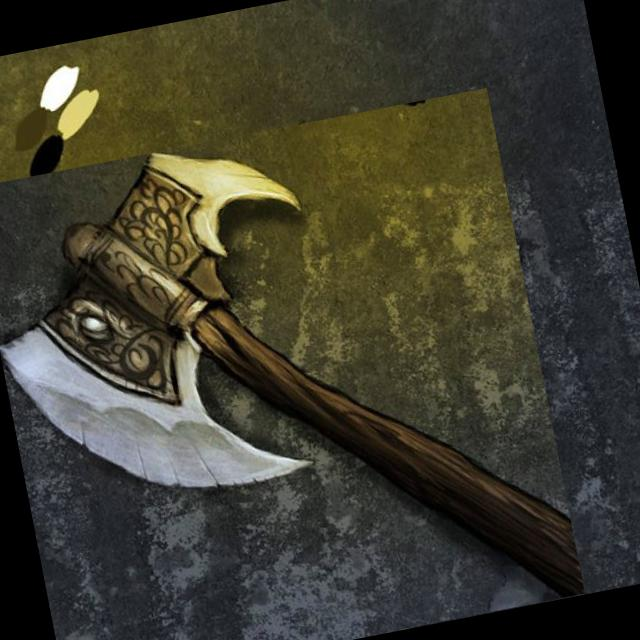Axe: (0, 153, 585, 596)
